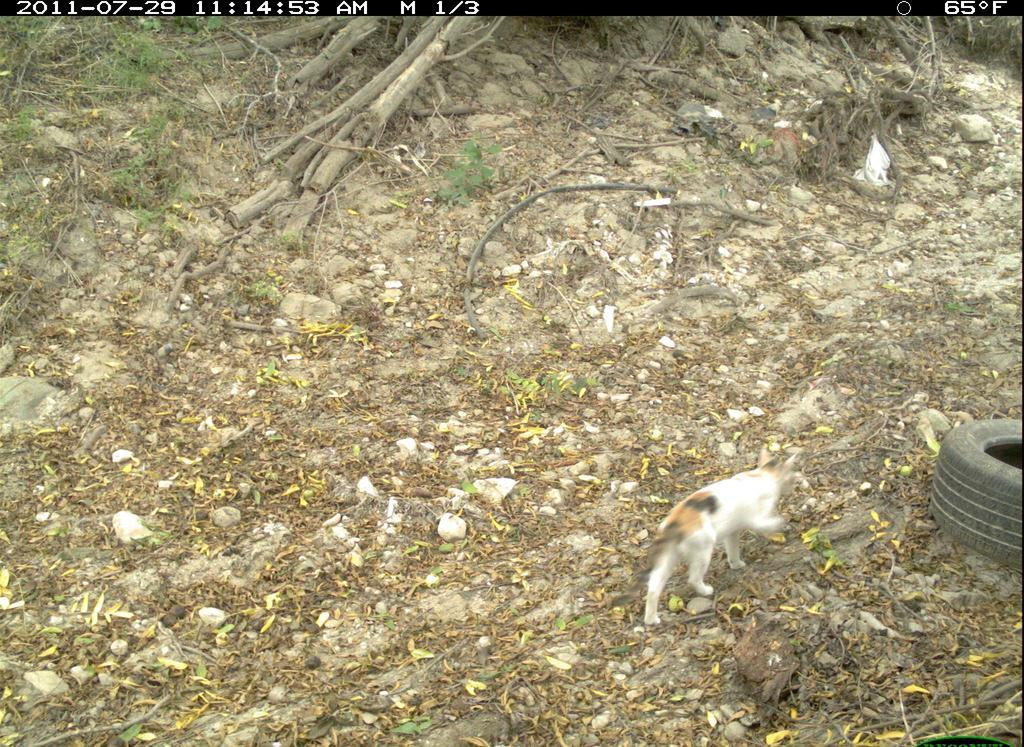cat: (603, 440, 831, 639)
